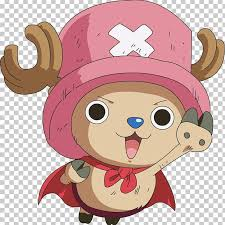chopper: (1, 1, 225, 224)
